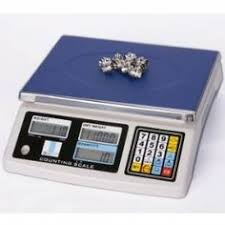Industrial Scale: (1, 33, 225, 201)
